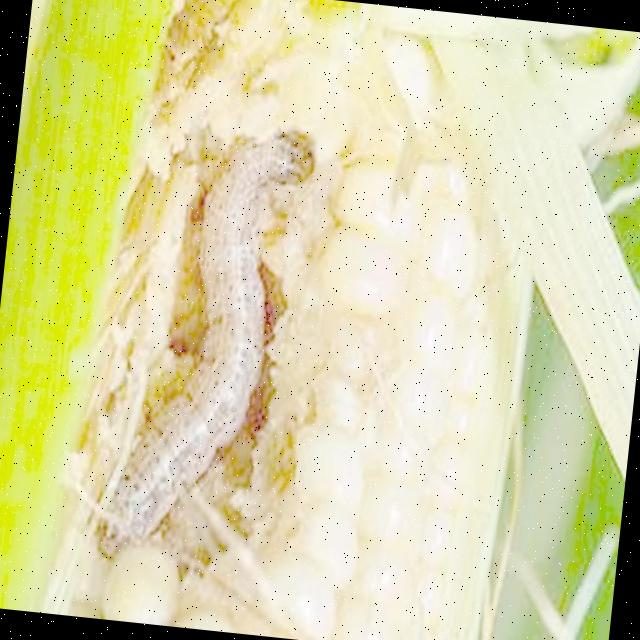worm: (82, 115, 321, 580)
